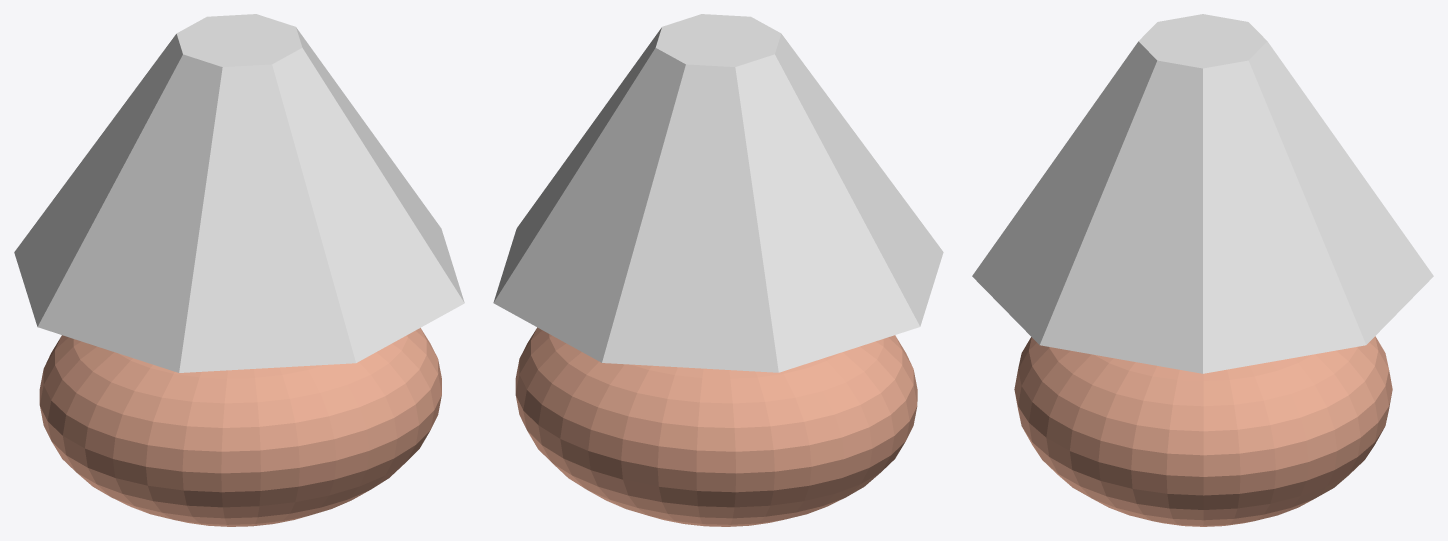
File: Lamp2.fbx
3 views of the same model, side by side, from view 1: azimuth 30°, elevation 25°; view 2: azimuth 150°, elevation 25°; view 3: azimuth 270°, elevation 25° (orthographic).
Parts seen in each view (by area): view 1: Lamp2; view 2: Lamp2; view 3: Lamp2.
Part boxes in pixels (x1,y1,x2,y2): Lamp2: (14,14,464,526); Lamp2: (493,14,943,526); Lamp2: (972,14,1433,526).
Bounding box in the file's own units: 20.35 × 22.56 × 20.35.
